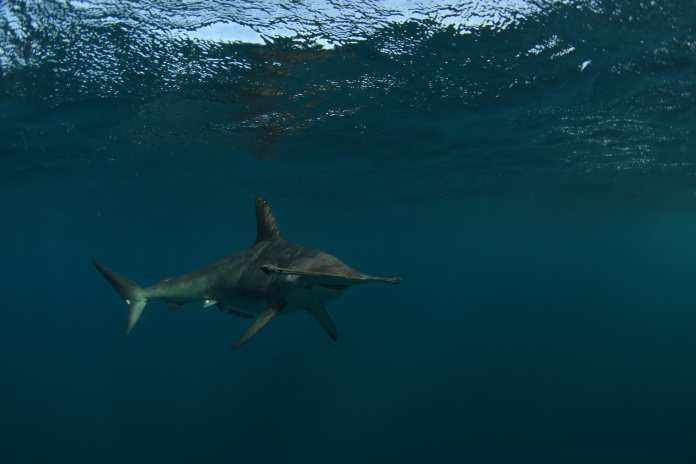Hammer: (75, 183, 411, 387)
